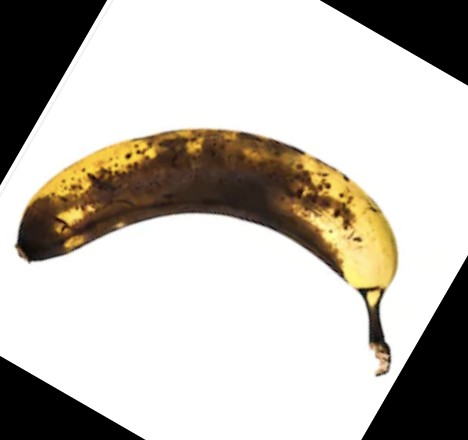rotten_banana: (18, 129, 397, 379)
